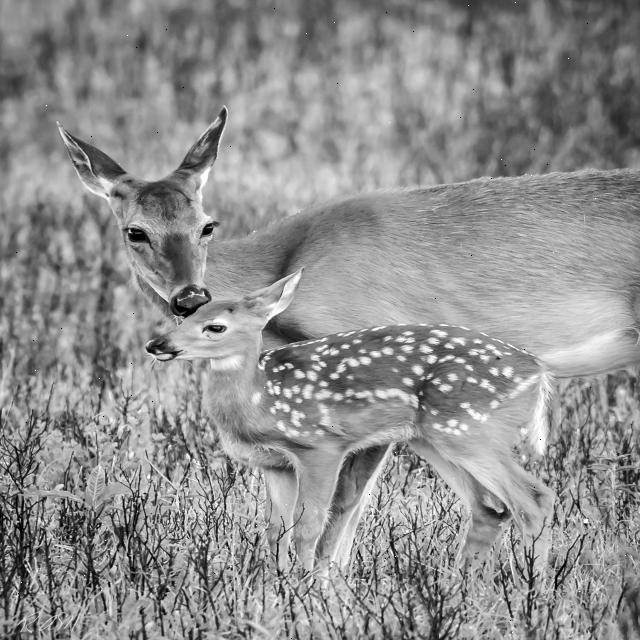deer: (144, 263, 586, 587), (45, 98, 250, 318)
